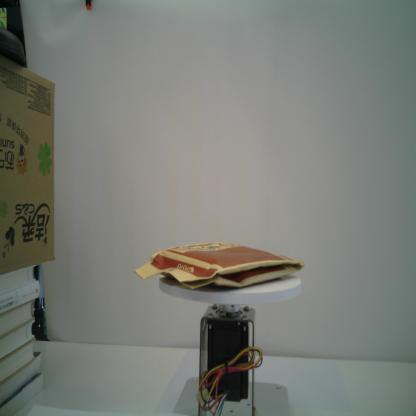Dried Food: (134, 241, 305, 292)
